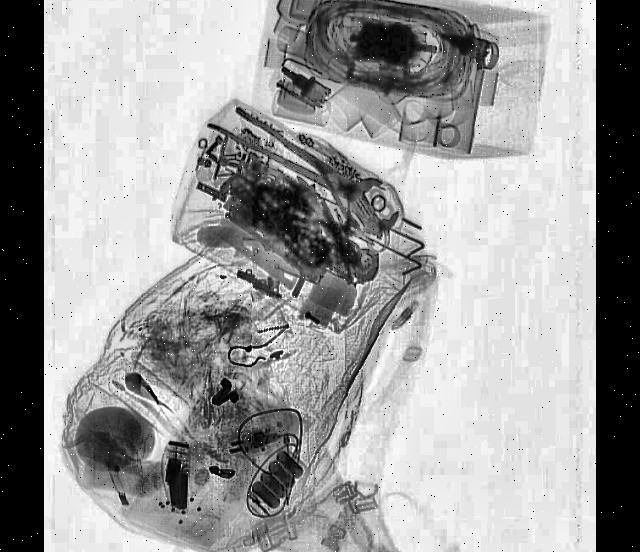Pliers: (294, 164, 374, 258)
Wrench: (206, 86, 407, 247)
